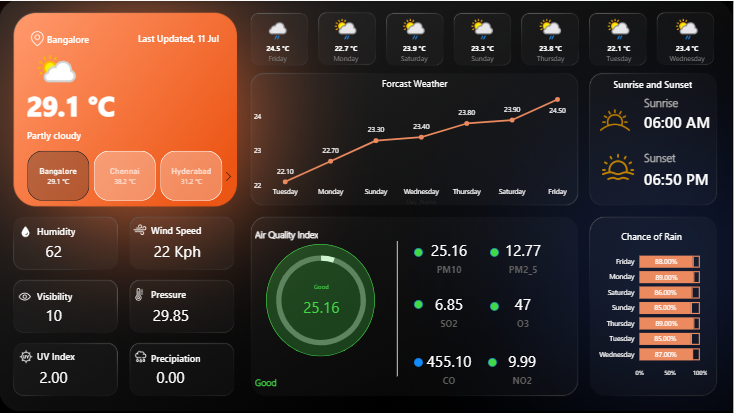

This screenshot's page, from the dashboard's own definition file:
{"tool":"powerbi","page":{"name":"Page 1","canvas":[1280,720],"ordinal":0},"visuals":[{"type":"donutChart","fields":{"Y":["Sum(Current_Data.current.air_quality.pm10)","Measures_.Left_value_PM10"]},"box":[458,408,206,228],"z":0},{"type":"shape","box":[466,424,190,196],"z":1000},{"type":"advancedSlicerVisual","fields":{"Values":["Locations.location.name"]},"box":[24.4,256.7,391.1,97.8],"z":2000},{"type":"shape","box":[48.6,216,282.9,34.3],"z":3000},{"type":"shape","box":[48.6,147.4,157.1,68.6],"z":4000},{"type":"shape","box":[84.3,48.6,145.7,34.3],"z":5000},{"type":"shape","box":[241.7,48.3,161.7,33.3],"z":6000},{"type":"image","box":[48.6,42.9,35.7,44.3],"z":7000},{"type":"cardVisual","fields":{"Data":["Min(Current_Data.current.condition.icon)"]},"box":[32.5,66.2,125,98.8],"z":8000},{"type":"image","box":[27.3,493.6,33.6,43.6],"z":9000},{"type":"shape","box":[66.4,501.8,68.2,27.3],"z":10000},{"type":"image","box":[26.4,602.7,42.7,33.6],"z":11000},{"type":"shape","box":[66.4,606.4,68.2,27.3],"z":12000},{"type":"image","box":[226.4,382.7,38.2,33.6],"z":13000},{"type":"image","box":[228.2,493.6,31.8,35.5],"z":14000},{"type":"image","box":[230,603.6,34.5,33.6],"z":15000},{"type":"image","box":[26.4,386.4,40,30],"z":16000},{"type":"shape","box":[66.4,389.1,68.2,27.3],"z":17000},{"type":"shape","box":[264.5,386.4,89.1,27.3],"z":18000},{"type":"shape","box":[264.5,498.2,68.2,27.3],"z":19000},{"type":"shape","box":[264.5,610,93.6,27.3],"z":20000},{"type":"card","fields":{"Values":["Sum(Current_Data.current.humidity)"]},"box":[57.3,416.4,75.5,39.1],"z":21000},{"type":"card","fields":{"Values":["Measures_.Wind_speed"]},"box":[251.8,416.4,120,39.1],"z":22000},{"type":"card","fields":{"Values":["Sum(Current_Data.current.vis_km)"]},"box":[57.3,529.1,75.5,39.1],"z":23000},{"type":"card","fields":{"Values":["Sum(Current_Data.current.pressure_in)"]},"box":[257.3,529.1,83.6,39.1],"z":24000},{"type":"card","fields":{"Values":["Sum(Current_Data.current.uv)"]},"box":[57.3,637.3,75.5,39.1],"z":25000},{"type":"card","fields":{"Values":["Sum(Current_Data.current.precip_in)"]},"box":[260.9,637.3,75.5,39.1],"z":26000},{"type":"advancedSlicerVisual","fields":{"Values":["Forcast_Day.Day_Name"]},"box":[425.6,18.9,836.7,107.8],"z":27000},{"type":"lineChart","title":"Forcast Weather","fields":{"Category":["Forcast_Day.Day_Name"],"Y":["Sum(Forcast_Day.forecast.forecastday.day.avgtemp_c)"]},"box":[438.9,132.2,571.1,227.8],"z":28000},{"type":"shape","box":[1056.7,132.2,166.7,27.8],"z":29000},{"type":"shape","box":[1125.6,190,124.4,42.2],"z":30000},{"type":"shape","box":[1125.6,160,124.4,30],"z":31000},{"type":"shape","box":[1125.6,288.9,124.4,42.2],"z":32000},{"type":"shape","box":[1125.6,256.7,124.4,32.2],"z":33000},{"type":"image","box":[1034.4,165.6,80,84.4],"z":34000},{"type":"image","box":[1044.4,256.7,70,65.6],"z":35000},{"type":"hundredPercentStackedBarChart","title":"Chance of Rain","fields":{"Y":["Sum(Forcast_Day.forecast.forecastday.day.daily_chance_of_rain)","Measures_.Left_value_Rain"],"Category":["Forcast_Day.Day_Name"]},"box":[1036.7,400,204.4,266.7],"z":36000},{"type":"shape","box":[446.7,394.4,115.6,27.8],"z":37000},{"type":"card","fields":{"Values":["Sum(Current_Data.current.air_quality.co)"]},"box":[738.9,601.1,91.1,75.6],"z":38000},{"type":"card","fields":{"Values":["Sum(Current_Data.current.air_quality.no2)"]},"box":[856.7,601.1,112.2,75.6],"z":39000},{"type":"card","fields":{"Values":["Sum(Current_Data.current.air_quality.o3)"]},"box":[867.8,502.2,91.1,75.6],"z":40000},{"type":"card","fields":{"Values":["Sum(Current_Data.current.air_quality.pm10)"]},"box":[738.9,408.9,91.1,75.6],"z":41000},{"type":"card","fields":{"Values":["Sum(Current_Data.current.air_quality.pm2_5)"]},"box":[867.8,408.9,91.1,75.6],"z":42000},{"type":"card","fields":{"Values":["Sum(Current_Data.current.air_quality.so2)"]},"box":[738.9,502.2,91.1,75.6],"z":43000},{"type":"shape","box":[724.4,431.1,15.6,15.6],"z":44000},{"type":"shape","box":[856.7,431.1,15.6,15.6],"z":45000},{"type":"shape","box":[724.4,521.1,15.6,15.6],"z":46000},{"type":"shape","box":[856.7,525.6,15.6,15.6],"z":47000},{"type":"shape","box":[724.4,622.2,15.6,15.6],"z":48000},{"type":"shape","box":[852.2,623.3,15.6,15.6],"z":49000},{"type":"shape","box":[656,418,78,236],"z":50000},{"type":"card","fields":{"Values":["Sum(Current_Data.current.air_quality.pm10)"]},"box":[516,490,92,76],"z":51000},{"type":"shape","box":[446.2,638.8,233.8,53.8],"z":52000}]}

Visuals, with their boxes in screenshot pixels (x1, y1, x2, y2), scaled from the page's 1280x720 canvas onto the 734x413 screenshot:
donutChart - Sum(Current_Data.current.air_quality.pm10) x Measures_.Left_value_PM10: rect(263, 234, 381, 365)
shape: rect(267, 243, 376, 356)
advancedSlicerVisual - Locations.location.name: rect(14, 147, 238, 203)
shape: rect(28, 124, 190, 144)
shape: rect(28, 85, 118, 124)
shape: rect(48, 28, 132, 48)
shape: rect(139, 28, 231, 47)
image: rect(28, 25, 48, 50)
cardVisual - Min(Current_Data.current.condition.icon): rect(19, 38, 90, 95)
image: rect(16, 283, 35, 308)
shape: rect(38, 288, 77, 303)
image: rect(15, 346, 40, 365)
shape: rect(38, 348, 77, 363)
image: rect(130, 220, 152, 239)
image: rect(131, 283, 149, 303)
image: rect(132, 346, 152, 366)
image: rect(15, 222, 38, 239)
shape: rect(38, 223, 77, 239)
shape: rect(152, 222, 203, 237)
shape: rect(152, 286, 191, 301)
shape: rect(152, 350, 205, 366)
card - Sum(Current_Data.current.humidity): rect(33, 239, 76, 261)
card - Measures_.Wind_speed: rect(144, 239, 213, 261)
card - Sum(Current_Data.current.vis_km): rect(33, 303, 76, 326)
card - Sum(Current_Data.current.pressure_in): rect(148, 303, 195, 326)
card - Sum(Current_Data.current.uv): rect(33, 366, 76, 388)
card - Sum(Current_Data.current.precip_in): rect(150, 366, 193, 388)
advancedSlicerVisual - Forcast_Day.Day_Name: rect(244, 11, 724, 73)
"Forcast Weather" lineChart: rect(252, 76, 579, 206)
shape: rect(606, 76, 702, 92)
shape: rect(645, 109, 717, 133)
shape: rect(645, 92, 717, 109)
shape: rect(645, 166, 717, 190)
shape: rect(645, 147, 717, 166)
image: rect(593, 95, 639, 143)
image: rect(599, 147, 639, 185)
"Chance of Rain" hundredPercentStackedBarChart: rect(594, 229, 712, 382)
shape: rect(256, 226, 322, 242)
card - Sum(Current_Data.current.air_quality.co): rect(424, 345, 476, 388)
card - Sum(Current_Data.current.air_quality.no2): rect(491, 345, 556, 388)
card - Sum(Current_Data.current.air_quality.o3): rect(498, 288, 550, 331)
card - Sum(Current_Data.current.air_quality.pm10): rect(424, 235, 476, 278)
card - Sum(Current_Data.current.air_quality.pm2_5): rect(498, 235, 550, 278)
card - Sum(Current_Data.current.air_quality.so2): rect(424, 288, 476, 331)
shape: rect(415, 247, 424, 256)
shape: rect(491, 247, 500, 256)
shape: rect(415, 299, 424, 308)
shape: rect(491, 301, 500, 310)
shape: rect(415, 357, 424, 366)
shape: rect(489, 358, 498, 366)
shape: rect(376, 240, 421, 375)
card - Sum(Current_Data.current.air_quality.pm10): rect(296, 281, 349, 325)
shape: rect(256, 366, 390, 397)
